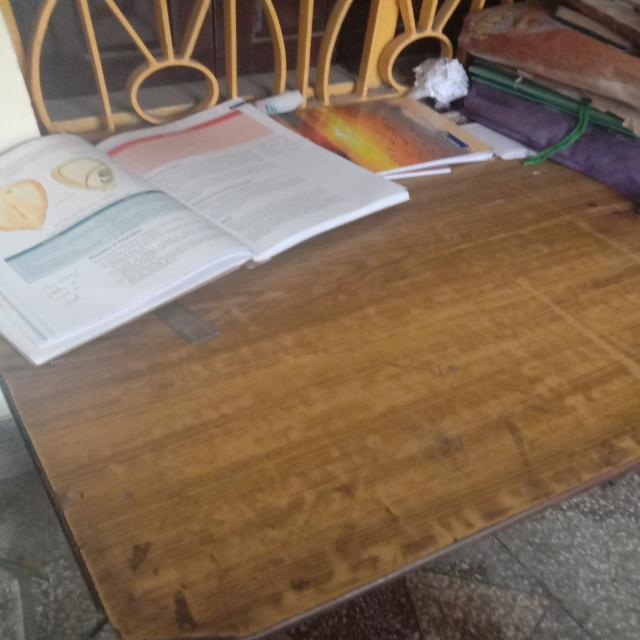book: (6, 107, 412, 368)
table: (12, 106, 640, 634)
